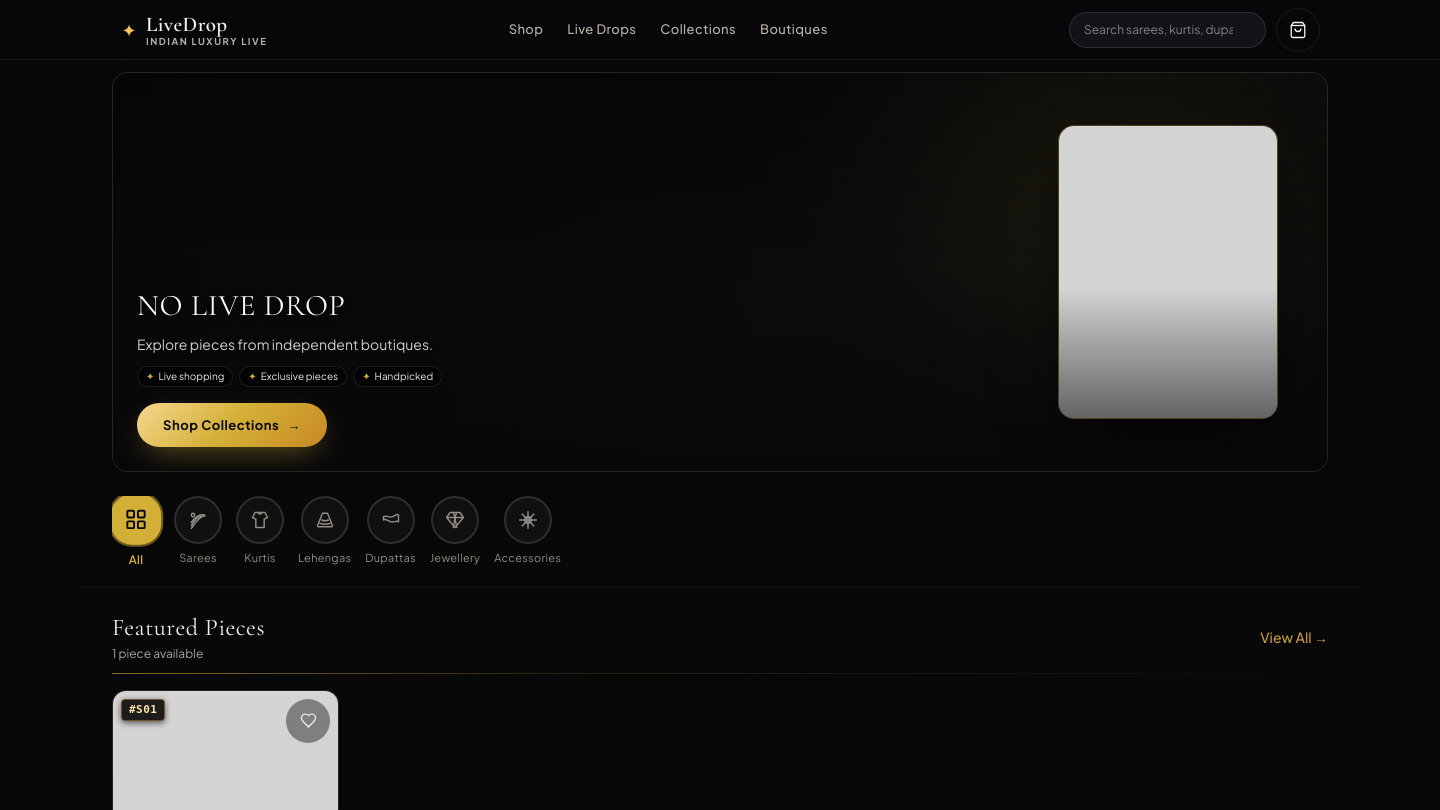
Test: Phase 1A Homepage Stabilization & 15 Production Cases › Case 16: Clicking desktop luxury bag button on Homepage opens CartDrawer
The width and height of the screenshot is (1440, 810).
Click the button with test id "luxury-bag-btn" at (1298, 30), box 1276,8 -> 1320,52
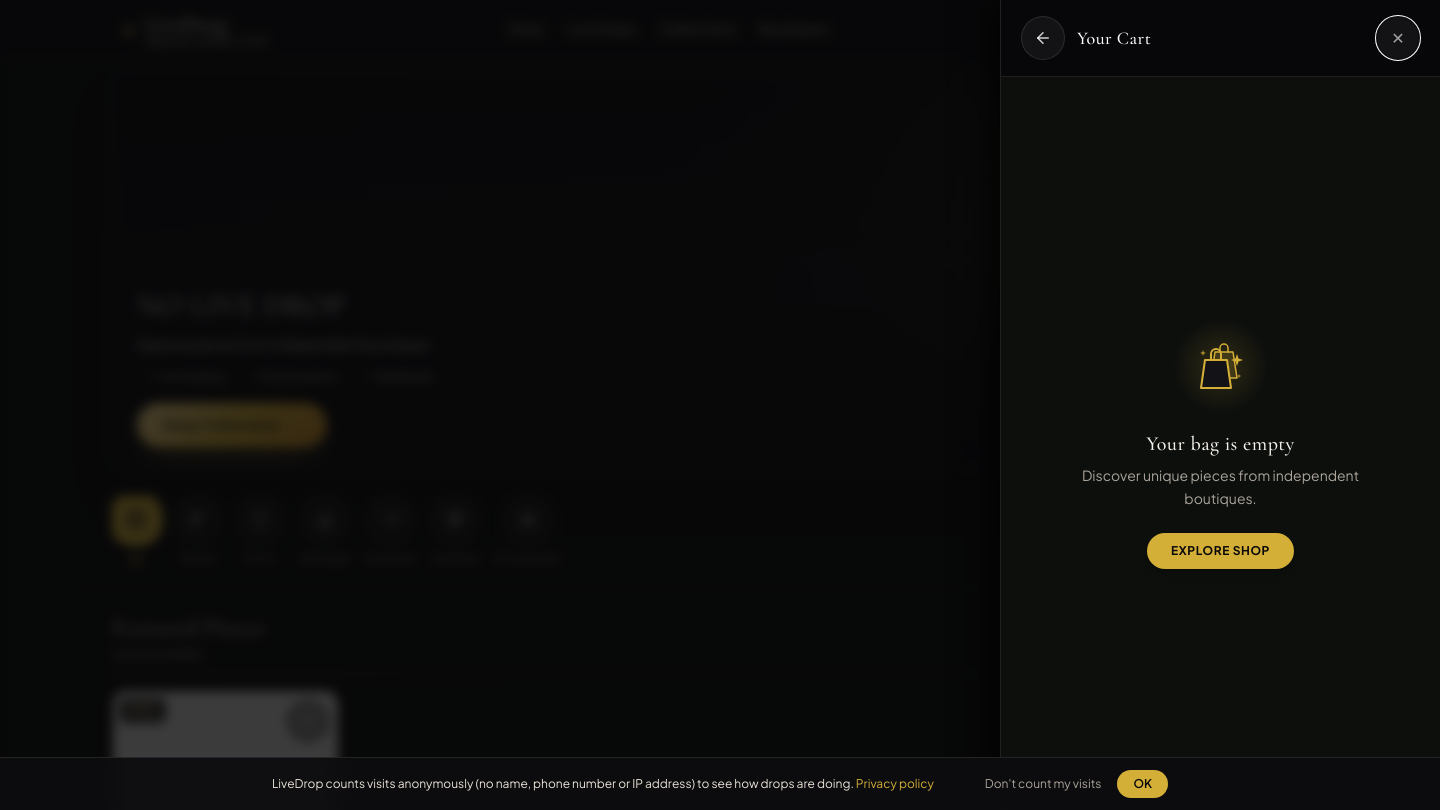
expect the dialog with test id "cart-drawer" is shown: met, box 1000,0 -> 1439,809
